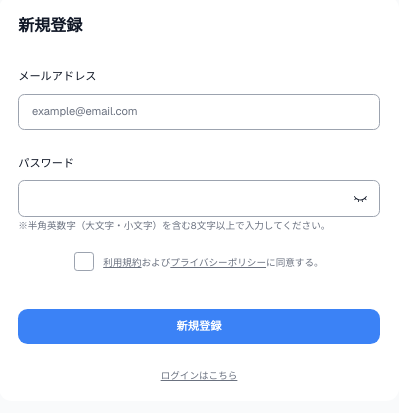
SignUpForm › 不正なメールアドレスで送信するとエラーメッセージが表示され、signUpActionは呼ばれない
The image size is (399, 413).
Type "invalid" into the field labelled "メールアドレス". click: (199, 112)
box: [18,94,380,130]
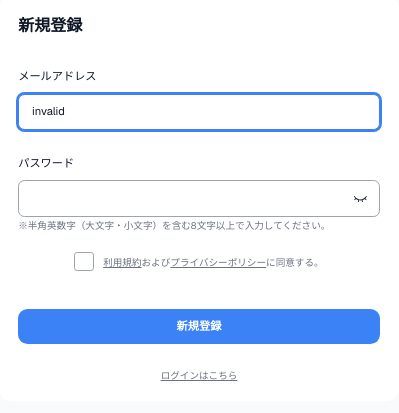
Type "Password1" into the password field labelled "パスワード". click: (199, 198)
box: [18,180,380,217]
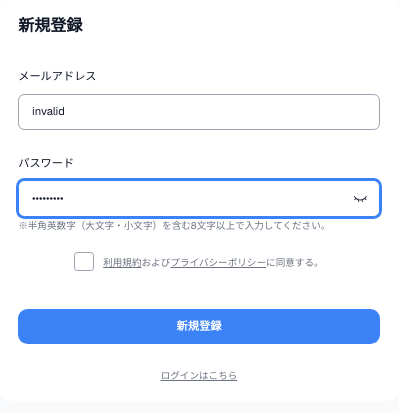
Click the checkbox. click: (84, 261)
box: [74,252,94,271]
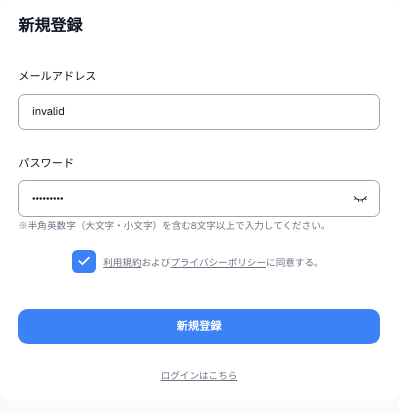
Click the button "新規登録". click: (199, 327)
box: [18,309,380,344]
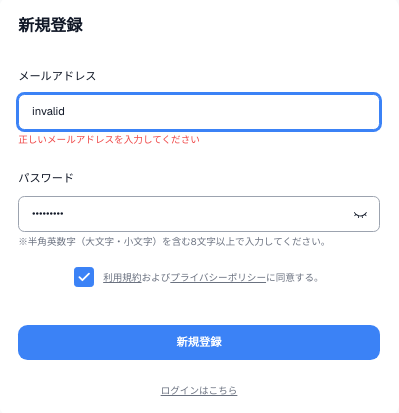
Check: the text "正しいメールアドレスを入力してください" is shown, box [18,133,200,146]
